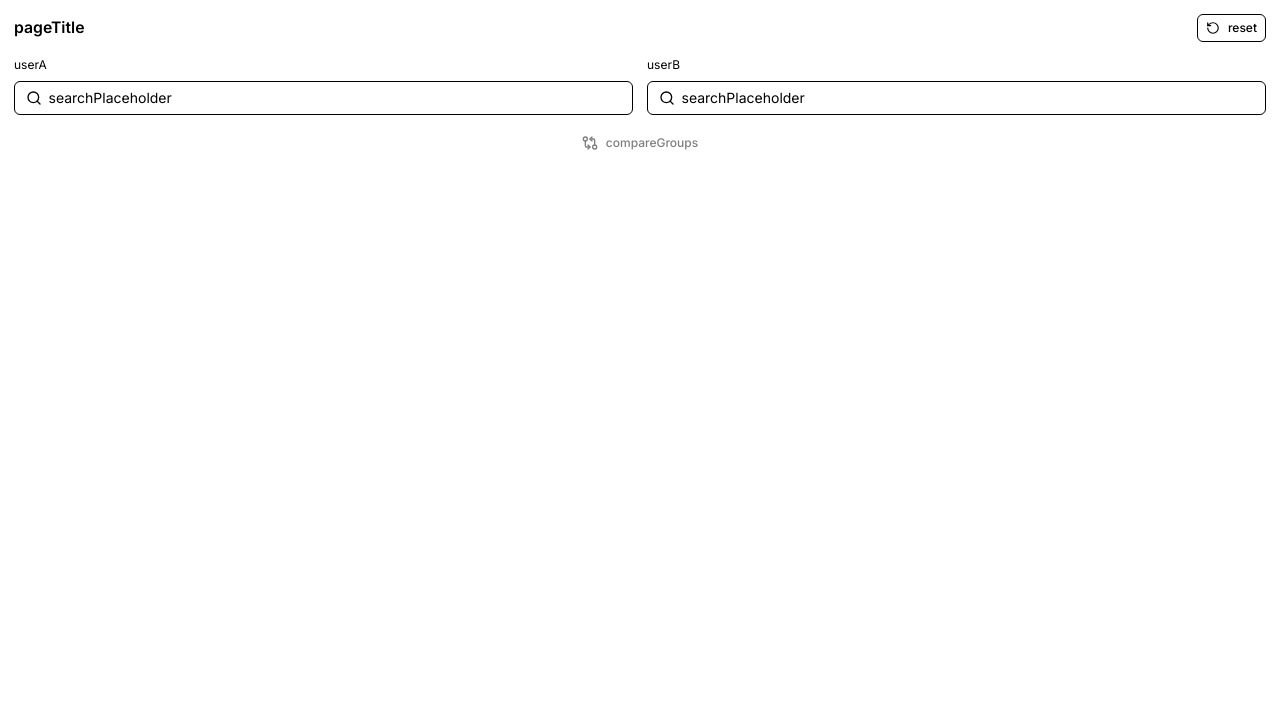
Test case: UserComparison › displays comparison results after comparing
// Select user A
In the field with test id "user-a-input": point(335, 98) [48,87,622,108], type "jdoe"
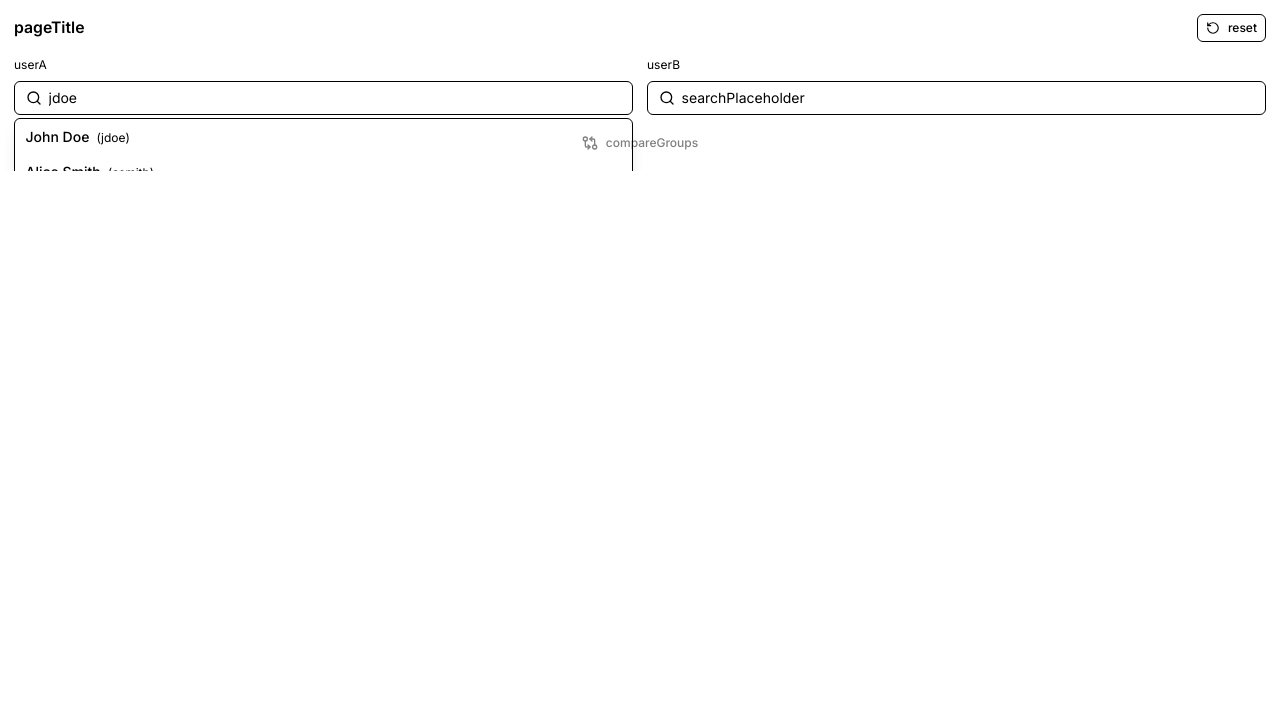
Expected: the element with test id "user-a-dropdown" is shown, [14,118,633,170]
Press the mouse on the button with test id "user-a-result-jdoe": point(57, 136) [15,119,632,154]
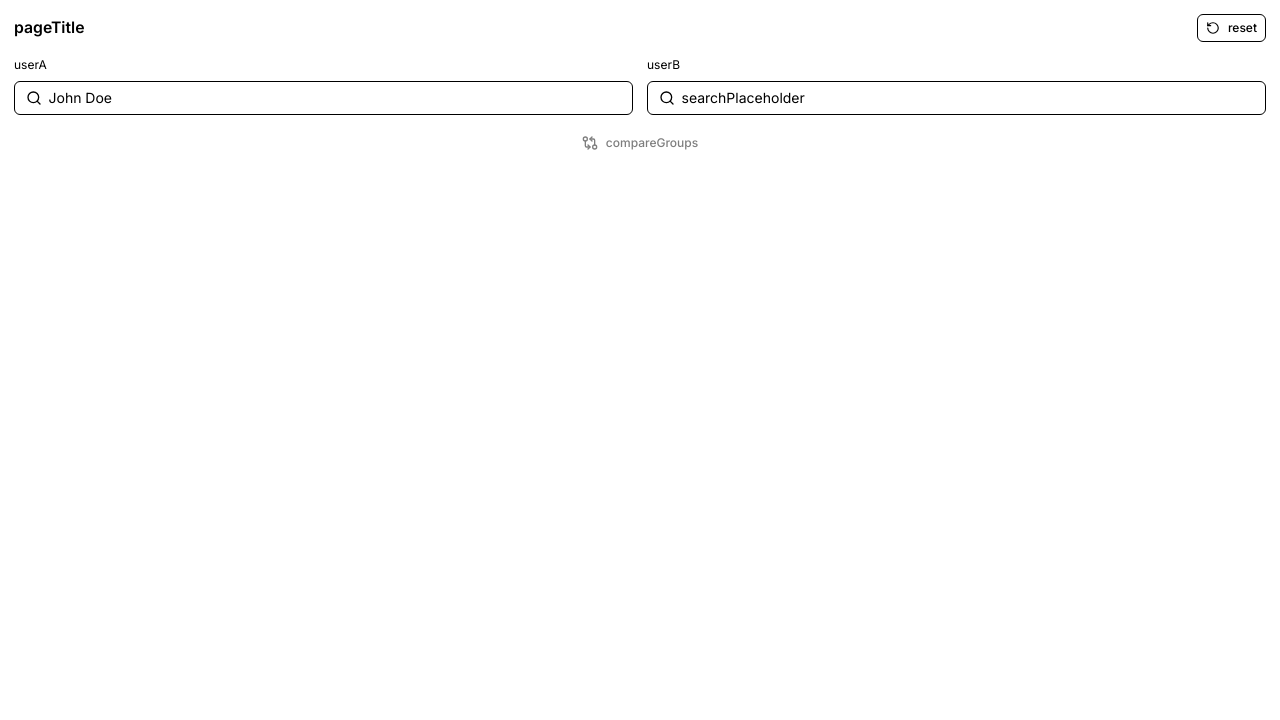
// Select user B
In the field with test id "user-b-input": point(968, 98) [682,87,1254,108], type "asmith"
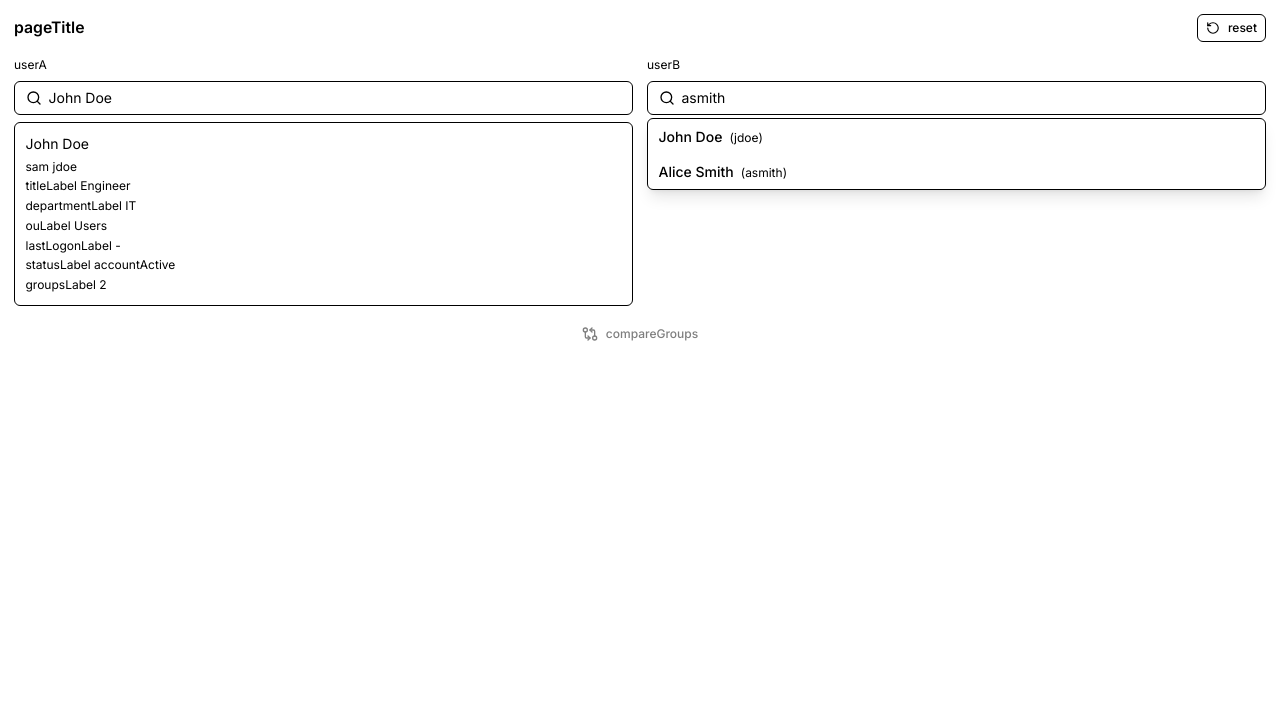
Expected: the element with test id "user-b-dropdown" is shown, [647,118,1266,190]
Press the mouse on the button with test id "user-b-result-asmith": point(696, 172) [648,154,1265,189]
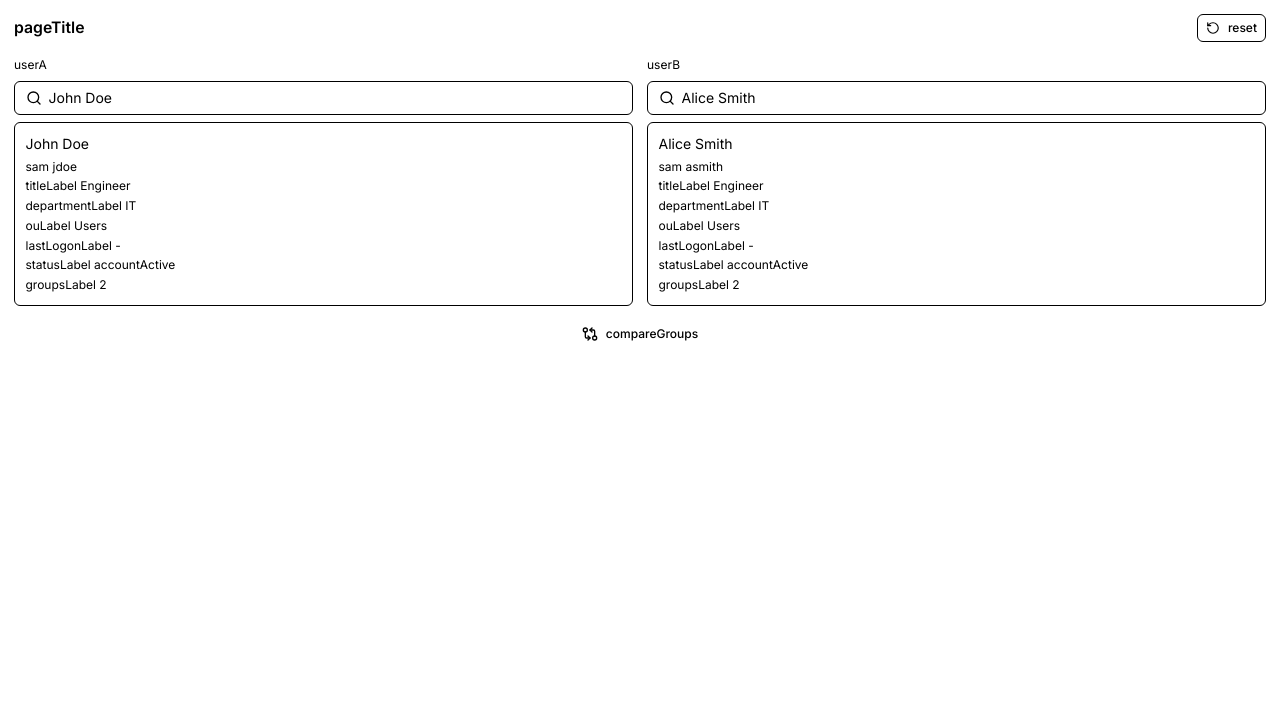
Expected: the element with test id "user-a-selected" is shown, [14,122,633,306]
Expected: the element with test id "user-b-selected" is shown, [647,122,1266,306]
Expected: the button with test id "compare-button" is enabled
Click the button with test id "compare-button": point(640, 334) [573,320,707,348]
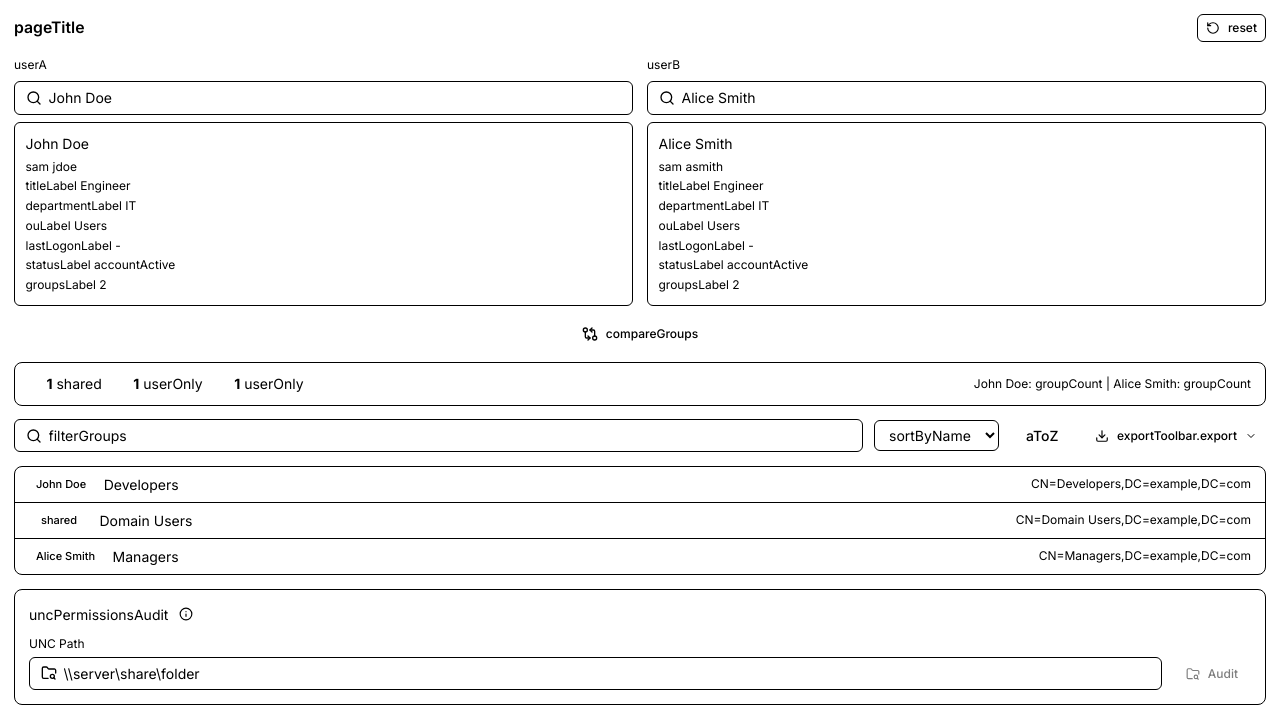
Expected: the element with test id "comparison-results" is shown, [14,362,1266,574]
Expected: the element with test id "delta-summary" is shown, [14,362,1266,406]
